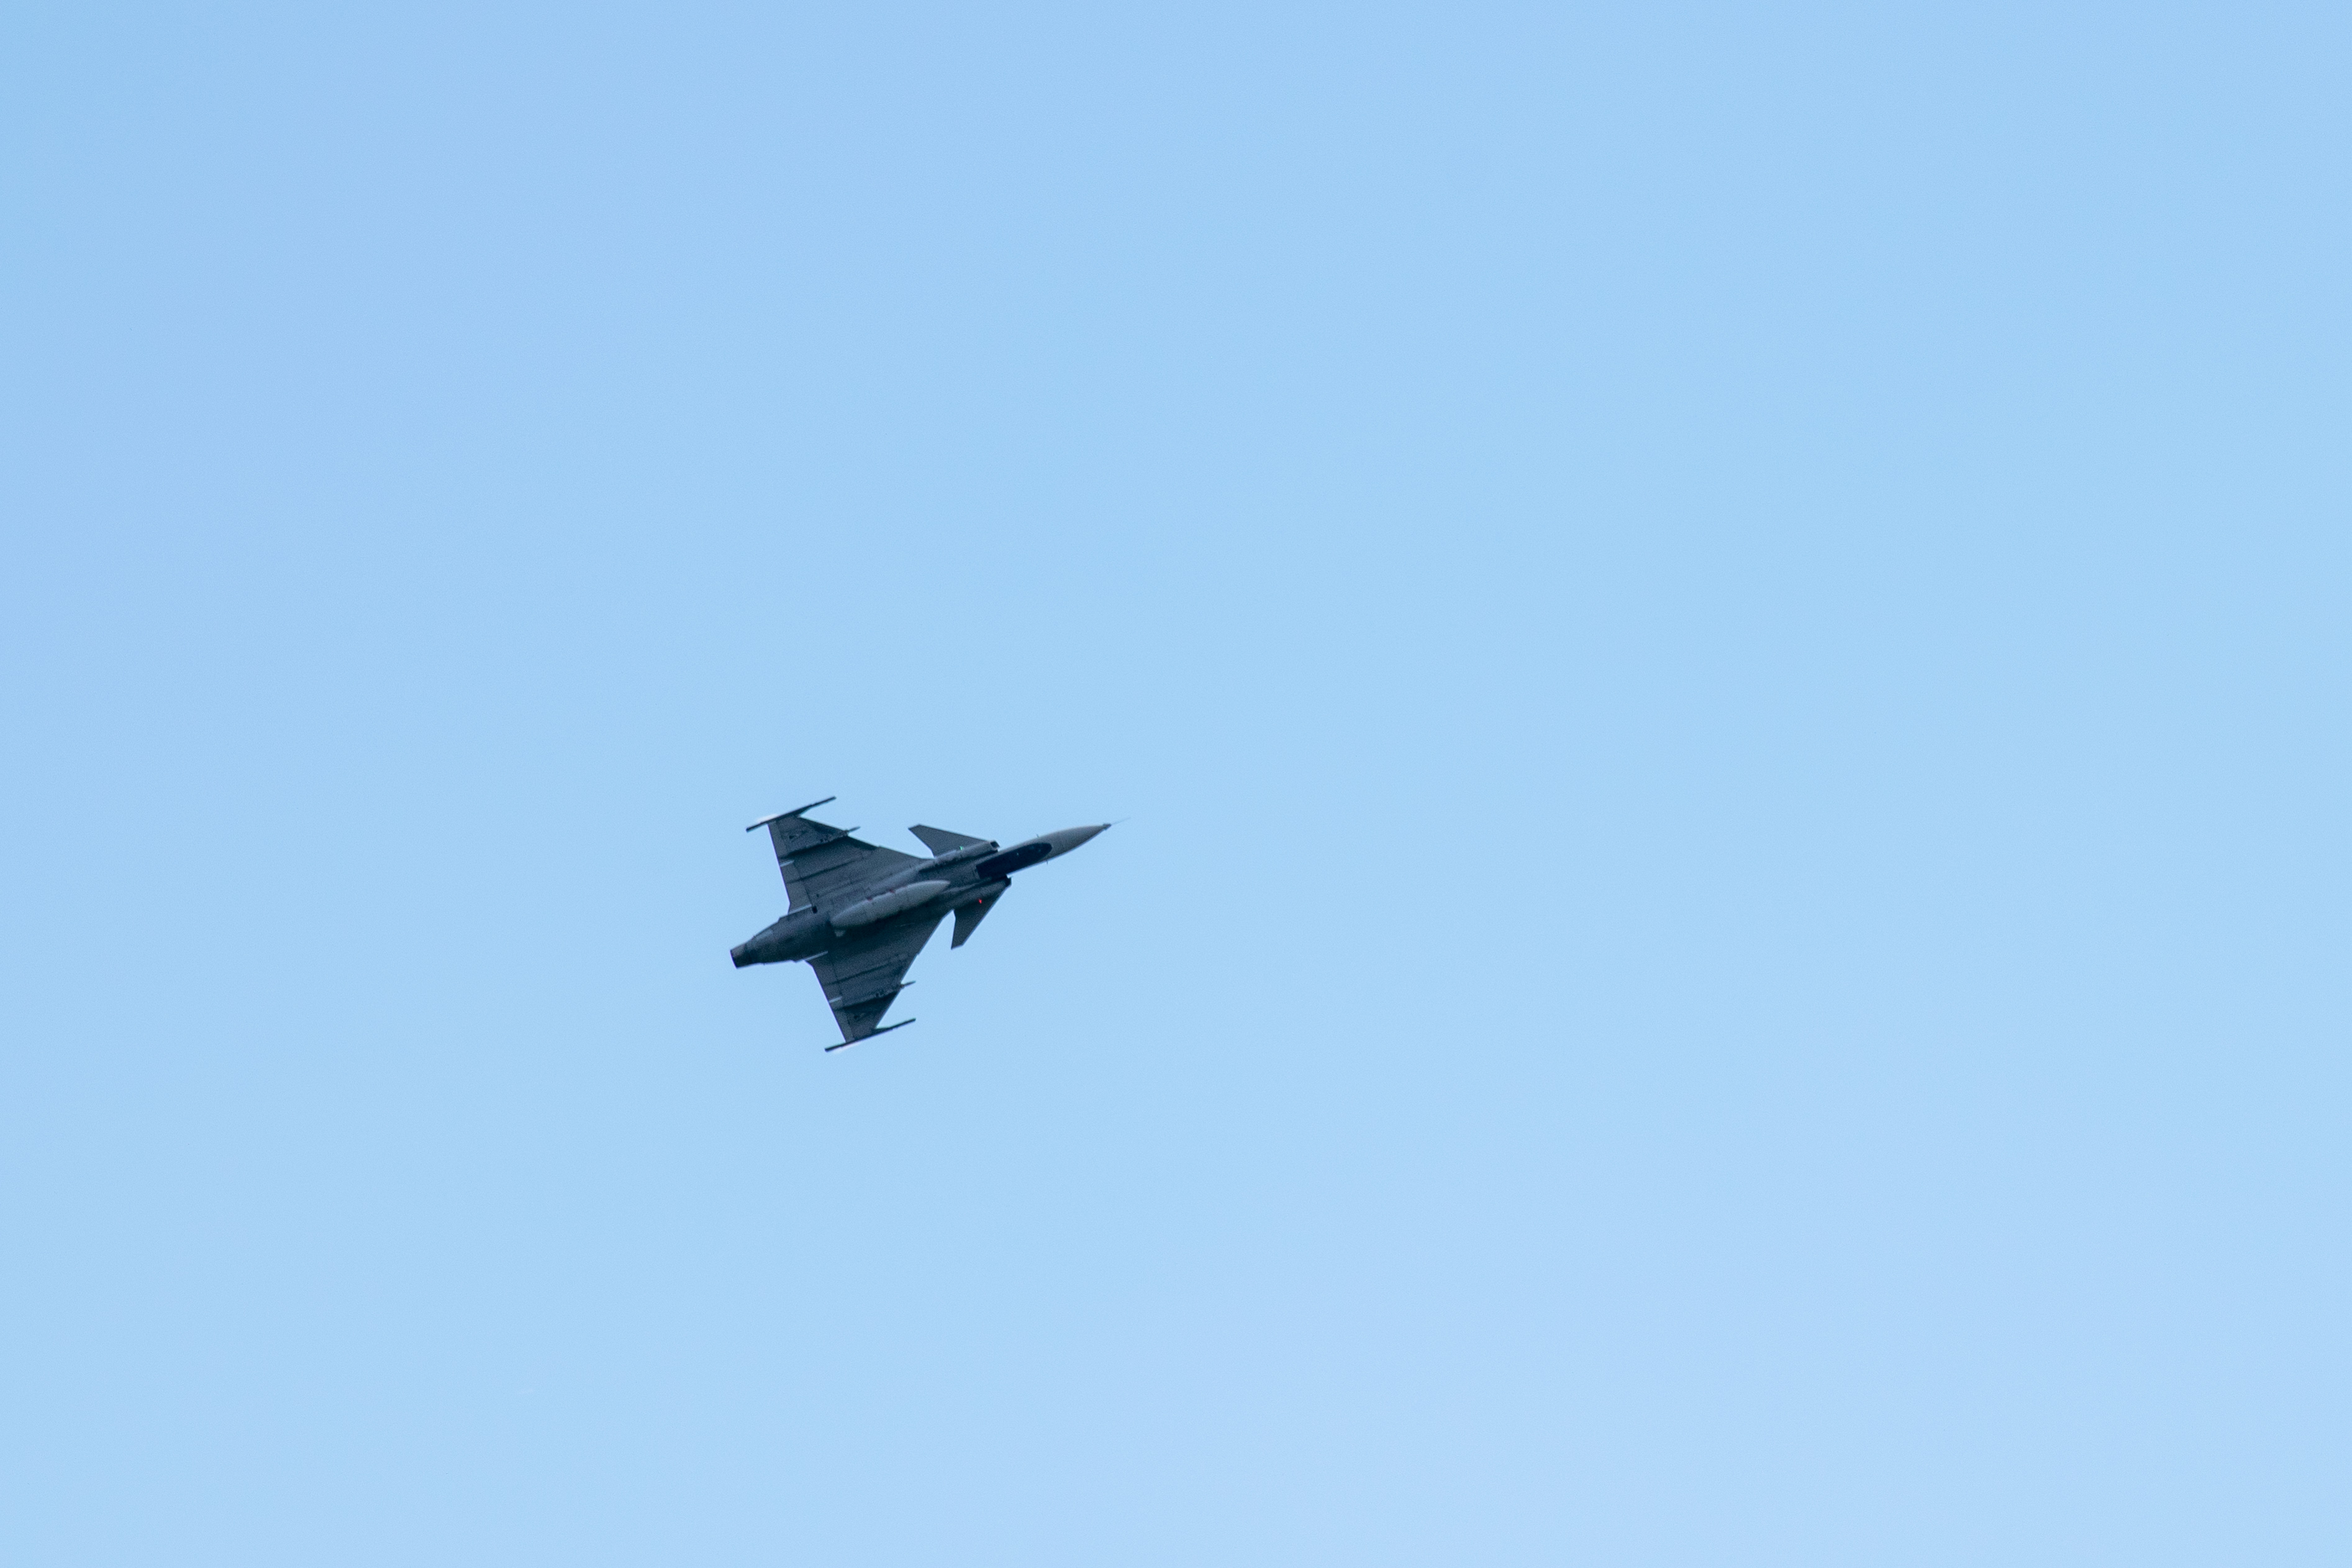JAS39: (730, 794, 1132, 1052)
